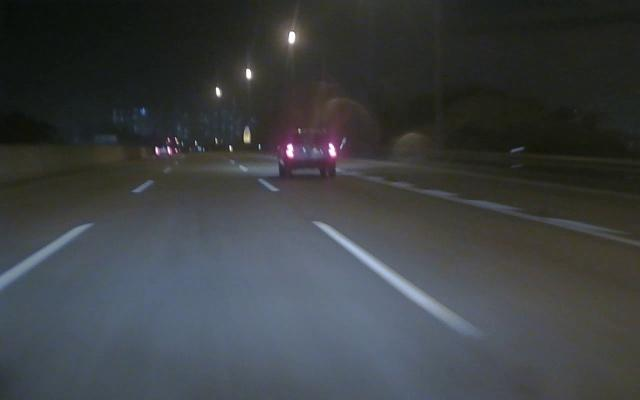lane: (256, 179, 485, 344), (3, 181, 152, 289), (394, 186, 638, 246)
